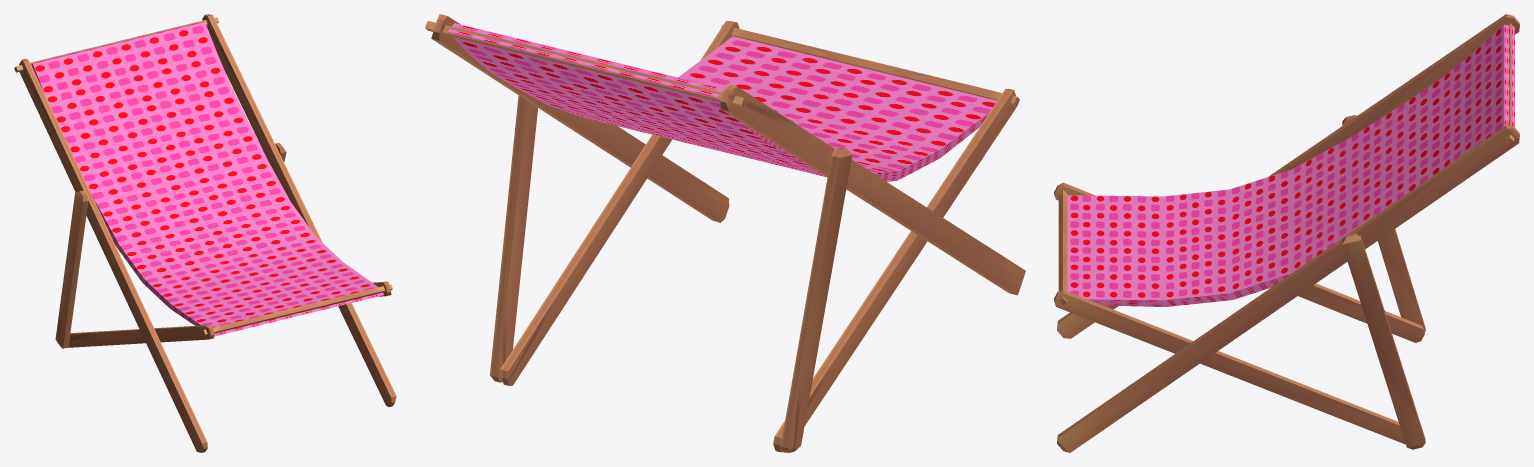
Rendered from lounge-chair-1a.fbx.
The picture shows the model from 3 angles, left to right: view 1: azimuth 30°, elevation 25°; view 2: azimuth 150°, elevation 25°; view 3: azimuth 270°, elevation 25°; orthographic projection. The views are drawn at different scales.
Parts seen in each view (by area): view 1: pCube13; view 2: pCube13; view 3: pCube13.
Part boxes in pixels (box(x1,y1,x2,y2)): pCube13: box(14, 14, 396, 452); pCube13: box(425, 14, 1025, 452); pCube13: box(1054, 14, 1519, 452).
Size of the model in its own units: 95.3 by 117 by 152.
Materials: 1 (1 with a texture image).
